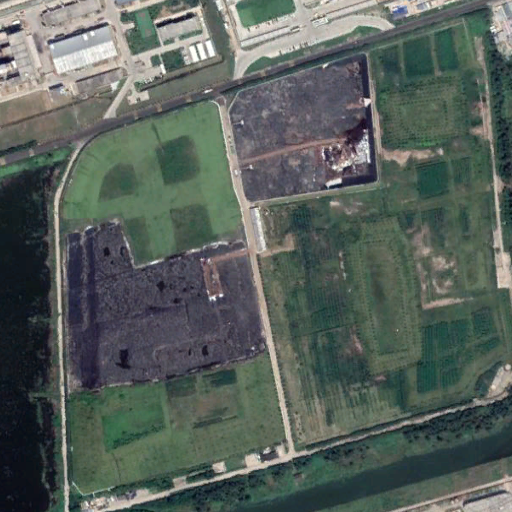lf: (57, 220, 268, 392), (228, 52, 382, 205)
